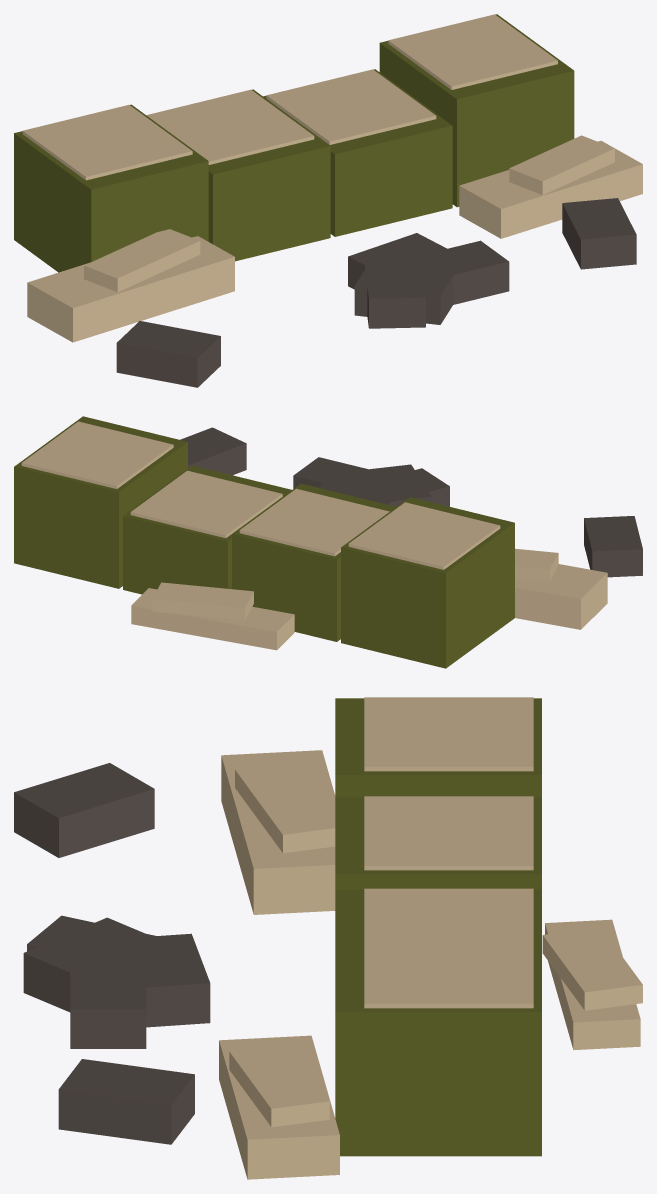
The model's file is SM_HescoCorto4_v1_Geotextil_e2_MuyDanado_LOD1.fbx.
3 renders of one model, top to bottom at view 1: azimuth 30°, elevation 25°; view 2: azimuth 150°, elevation 25°; view 3: azimuth 270°, elevation 25°, orthographic. The views are drawn at different scales.
Visible parts, largest first — view 1: SM_hesco_piezas_v106_LOD1; view 2: SM_hesco_piezas_v106_LOD1; view 3: SM_hesco_piezas_v106_LOD1.
Boxes of the visible parts, x1,y1,x2,y2 form: SM_hesco_piezas_v106_LOD1: [14, 14, 642, 387]; SM_hesco_piezas_v106_LOD1: [14, 416, 642, 668]; SM_hesco_piezas_v106_LOD1: [14, 697, 642, 1179].
Size of the model in its own units: 5.36 by 0.9707 by 3.71.
